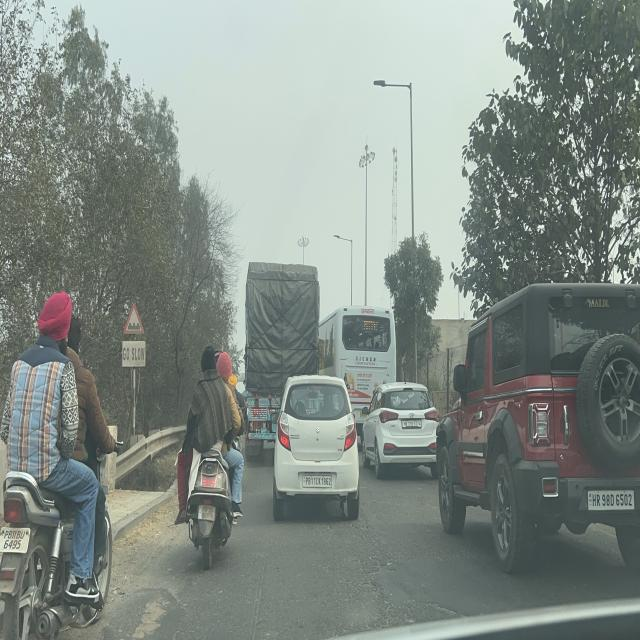HUMP_OR_ROUGH_ROAD: (123, 302, 145, 335)
